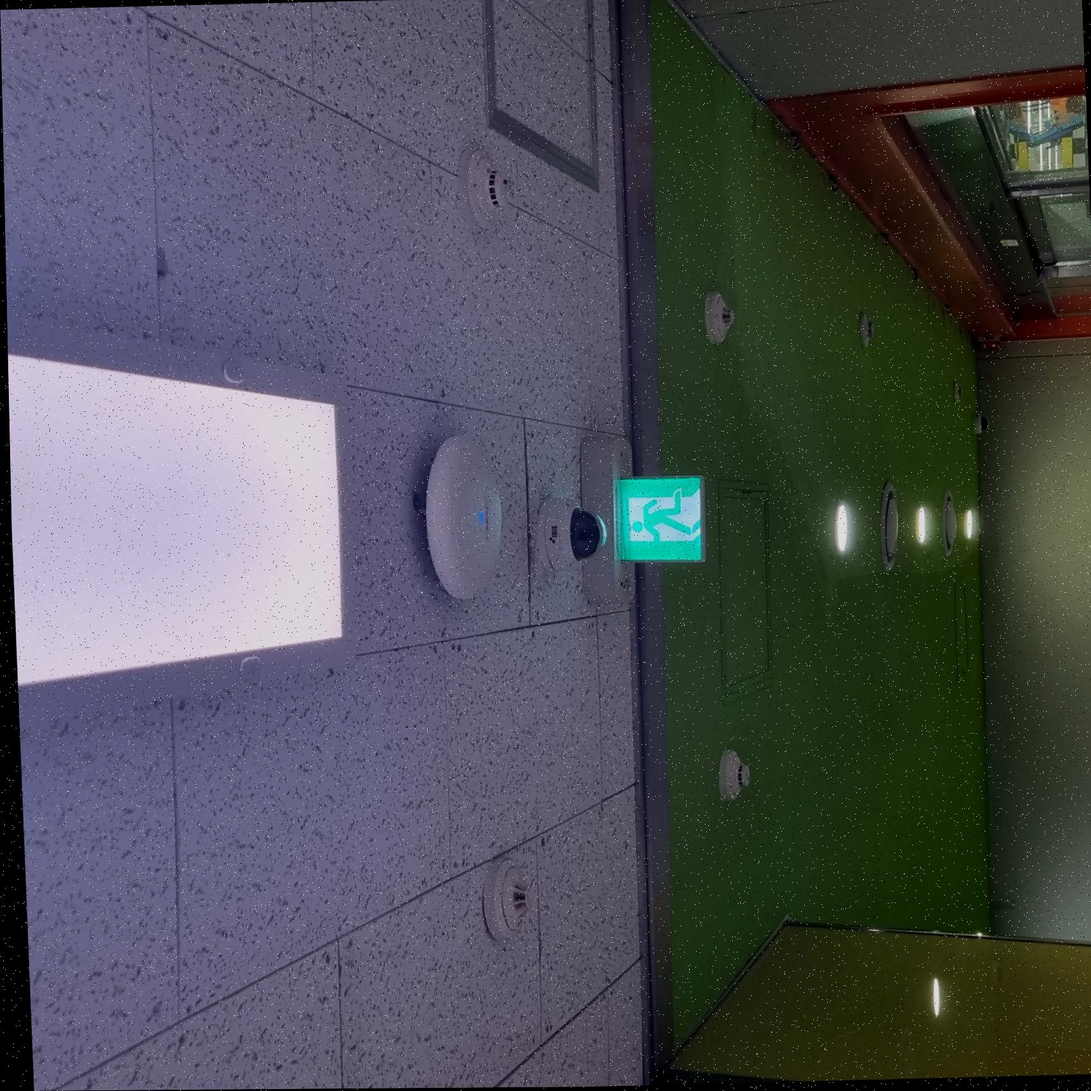emergency_exit: (612, 473, 706, 564)
